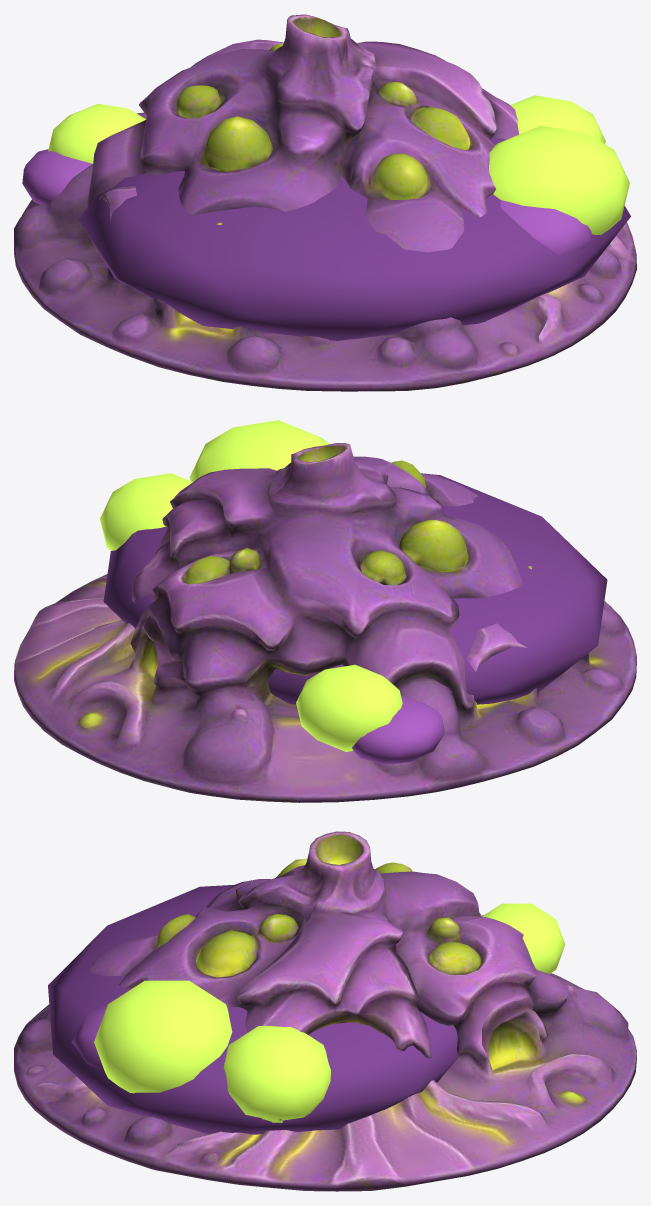
Rendered from struct_swarm_outpost.glb.
3 views of the same model, one above another, from view 1: azimuth 30°, elevation 25°; view 2: azimuth 150°, elevation 25°; view 3: azimuth 270°, elevation 25° (orthographic). The views are drawn at different scales.
Parts seen in each view (by area): view 1: tripo_node_92913b85-79b7-44b6-9354-9ceb9610924a, Outpost silhouette details; view 2: tripo_node_92913b85-79b7-44b6-9354-9ceb9610924a, Outpost silhouette details; view 3: tripo_node_92913b85-79b7-44b6-9354-9ceb9610924a, Outpost silhouette details.
Boxes of the visible parts, bbox=[...] form: tripo_node_92913b85-79b7-44b6-9354-9ceb9610924a: bbox=[14, 14, 636, 391]; Outpost silhouette details: bbox=[22, 95, 630, 340]; tripo_node_92913b85-79b7-44b6-9354-9ceb9610924a: bbox=[14, 443, 636, 802]; Outpost silhouette details: bbox=[100, 420, 607, 764]; tripo_node_92913b85-79b7-44b6-9354-9ceb9610924a: bbox=[14, 831, 636, 1191]; Outpost silhouette details: bbox=[48, 885, 565, 1134].
Size of the model in its own units: 1.08 by 0.467 by 1.14.
4 materials, 1 textured.
